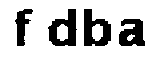a: (117, 16, 149, 50)
b: (81, 4, 112, 54)
d: (46, 4, 79, 52)
f: (9, 5, 35, 51)
